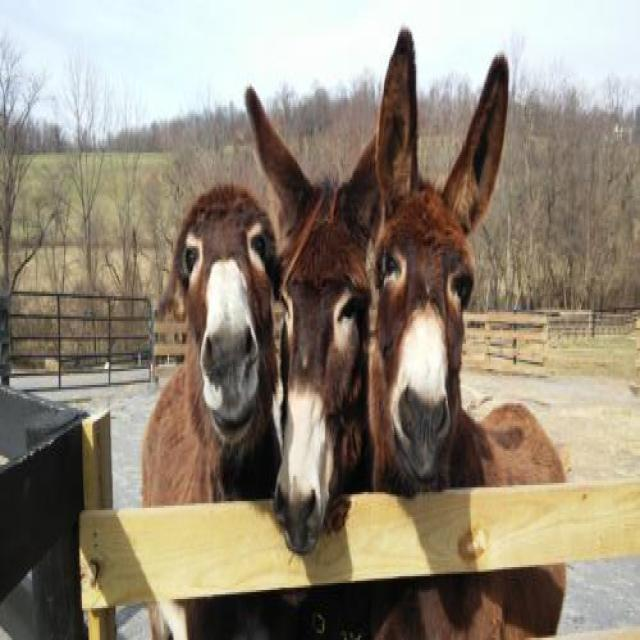Donkey: (373, 25, 567, 640), (244, 84, 382, 640), (140, 182, 284, 640)
